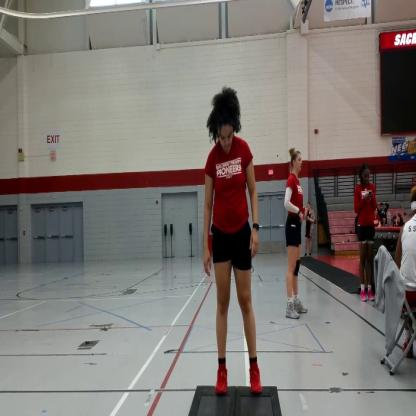lateral_flexion_normal: (200, 84, 266, 400)
stance_width_normal: (199, 134, 266, 398)
